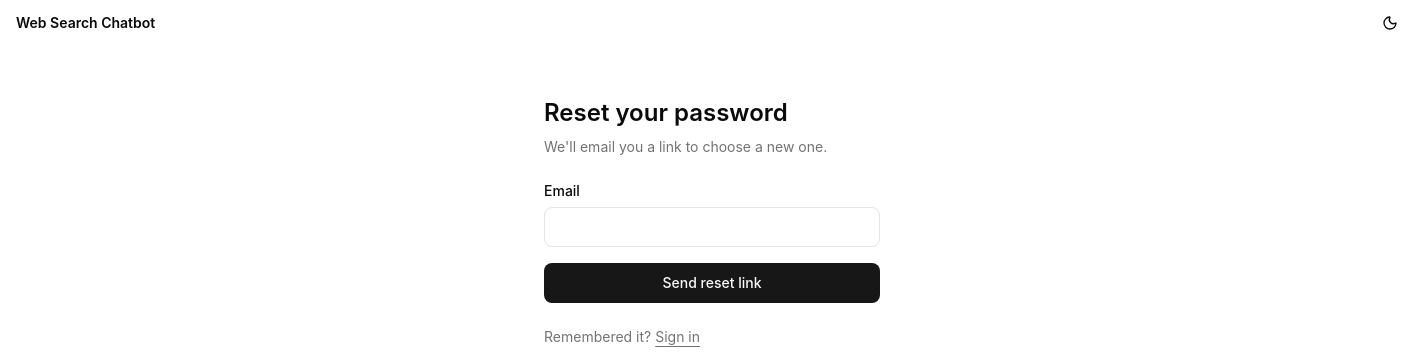
Test: forgot password › confirms without revealing whether the account exists
Expected: the heading "Reset your password" is shown, [544, 98, 788, 127]
Type "ghost@example.com" into the field labelled "Email".
click(712, 227); type("ghost@example.com")  # box [544, 207, 880, 247]
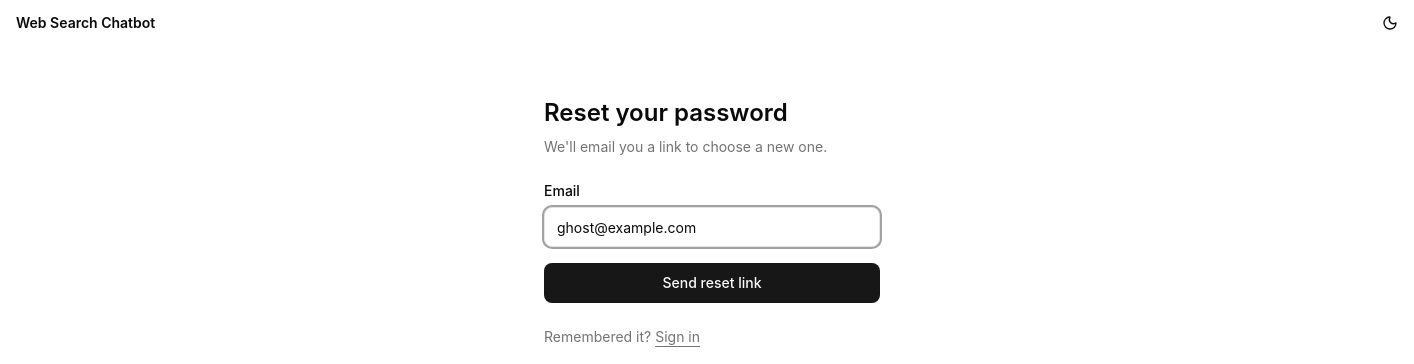
Click the button "Send reset link".
click(712, 283)  # box [544, 263, 880, 303]
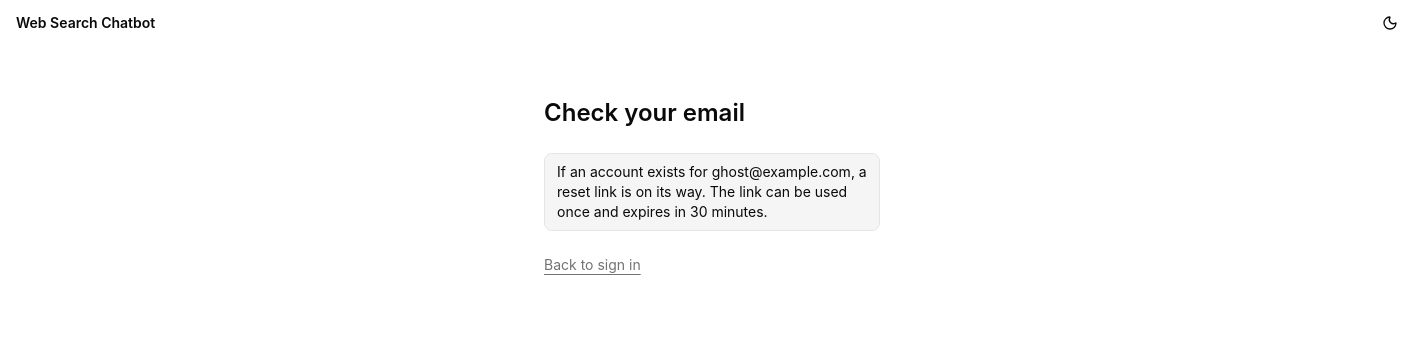
Expected: the message shows "If an account exists", [557, 163, 712, 180]
